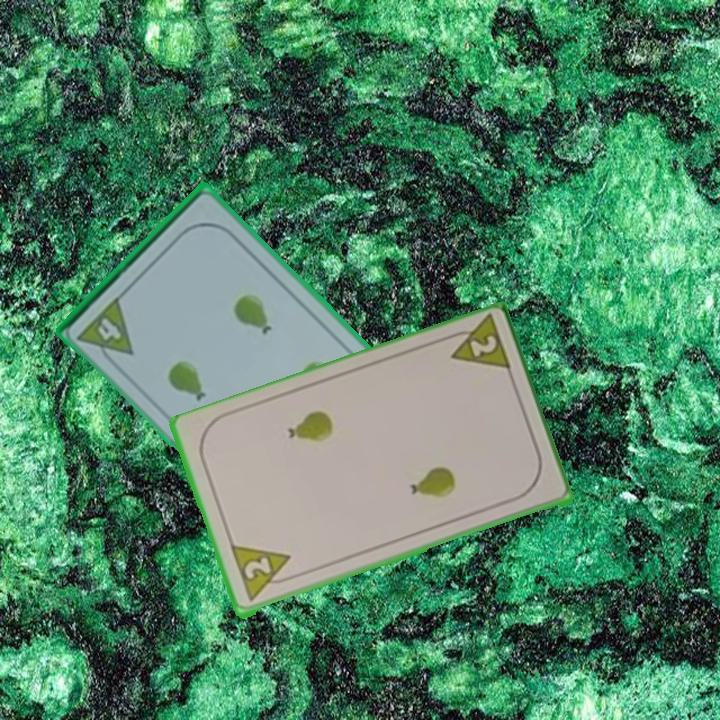2p: (439, 314, 514, 377), (227, 542, 299, 605)
4p: (74, 293, 137, 371)
